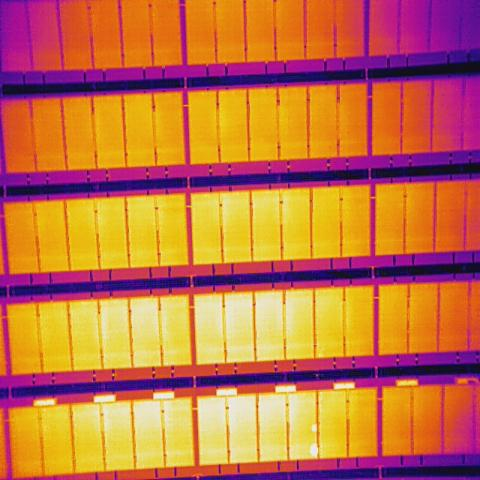fault: (307, 442, 319, 457), (310, 421, 318, 434)
